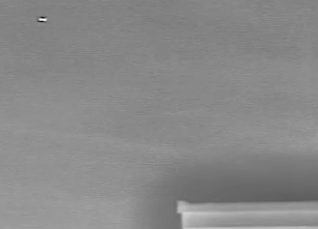Target: (40, 19, 47, 21)
